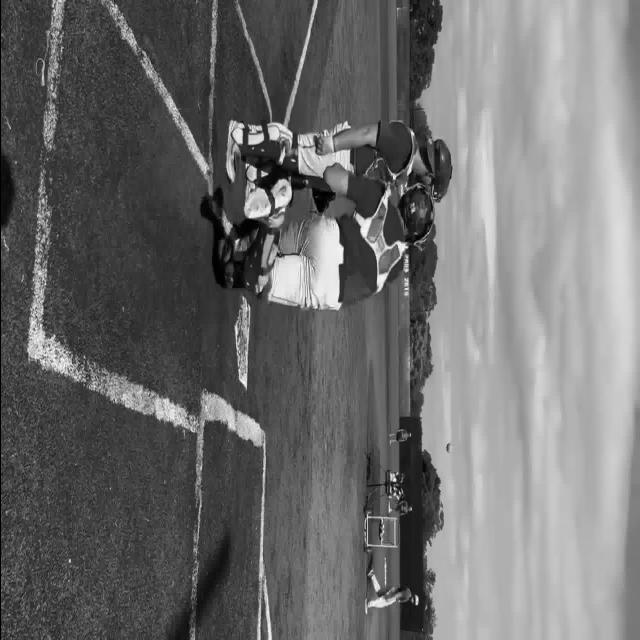base: (231, 295, 252, 403)
baseball: (446, 441, 452, 453)
shoe: (242, 178, 292, 222), (226, 119, 242, 182), (216, 236, 234, 288), (223, 261, 247, 289), (216, 236, 232, 264), (245, 163, 258, 190), (366, 567, 374, 577), (364, 598, 368, 614)
